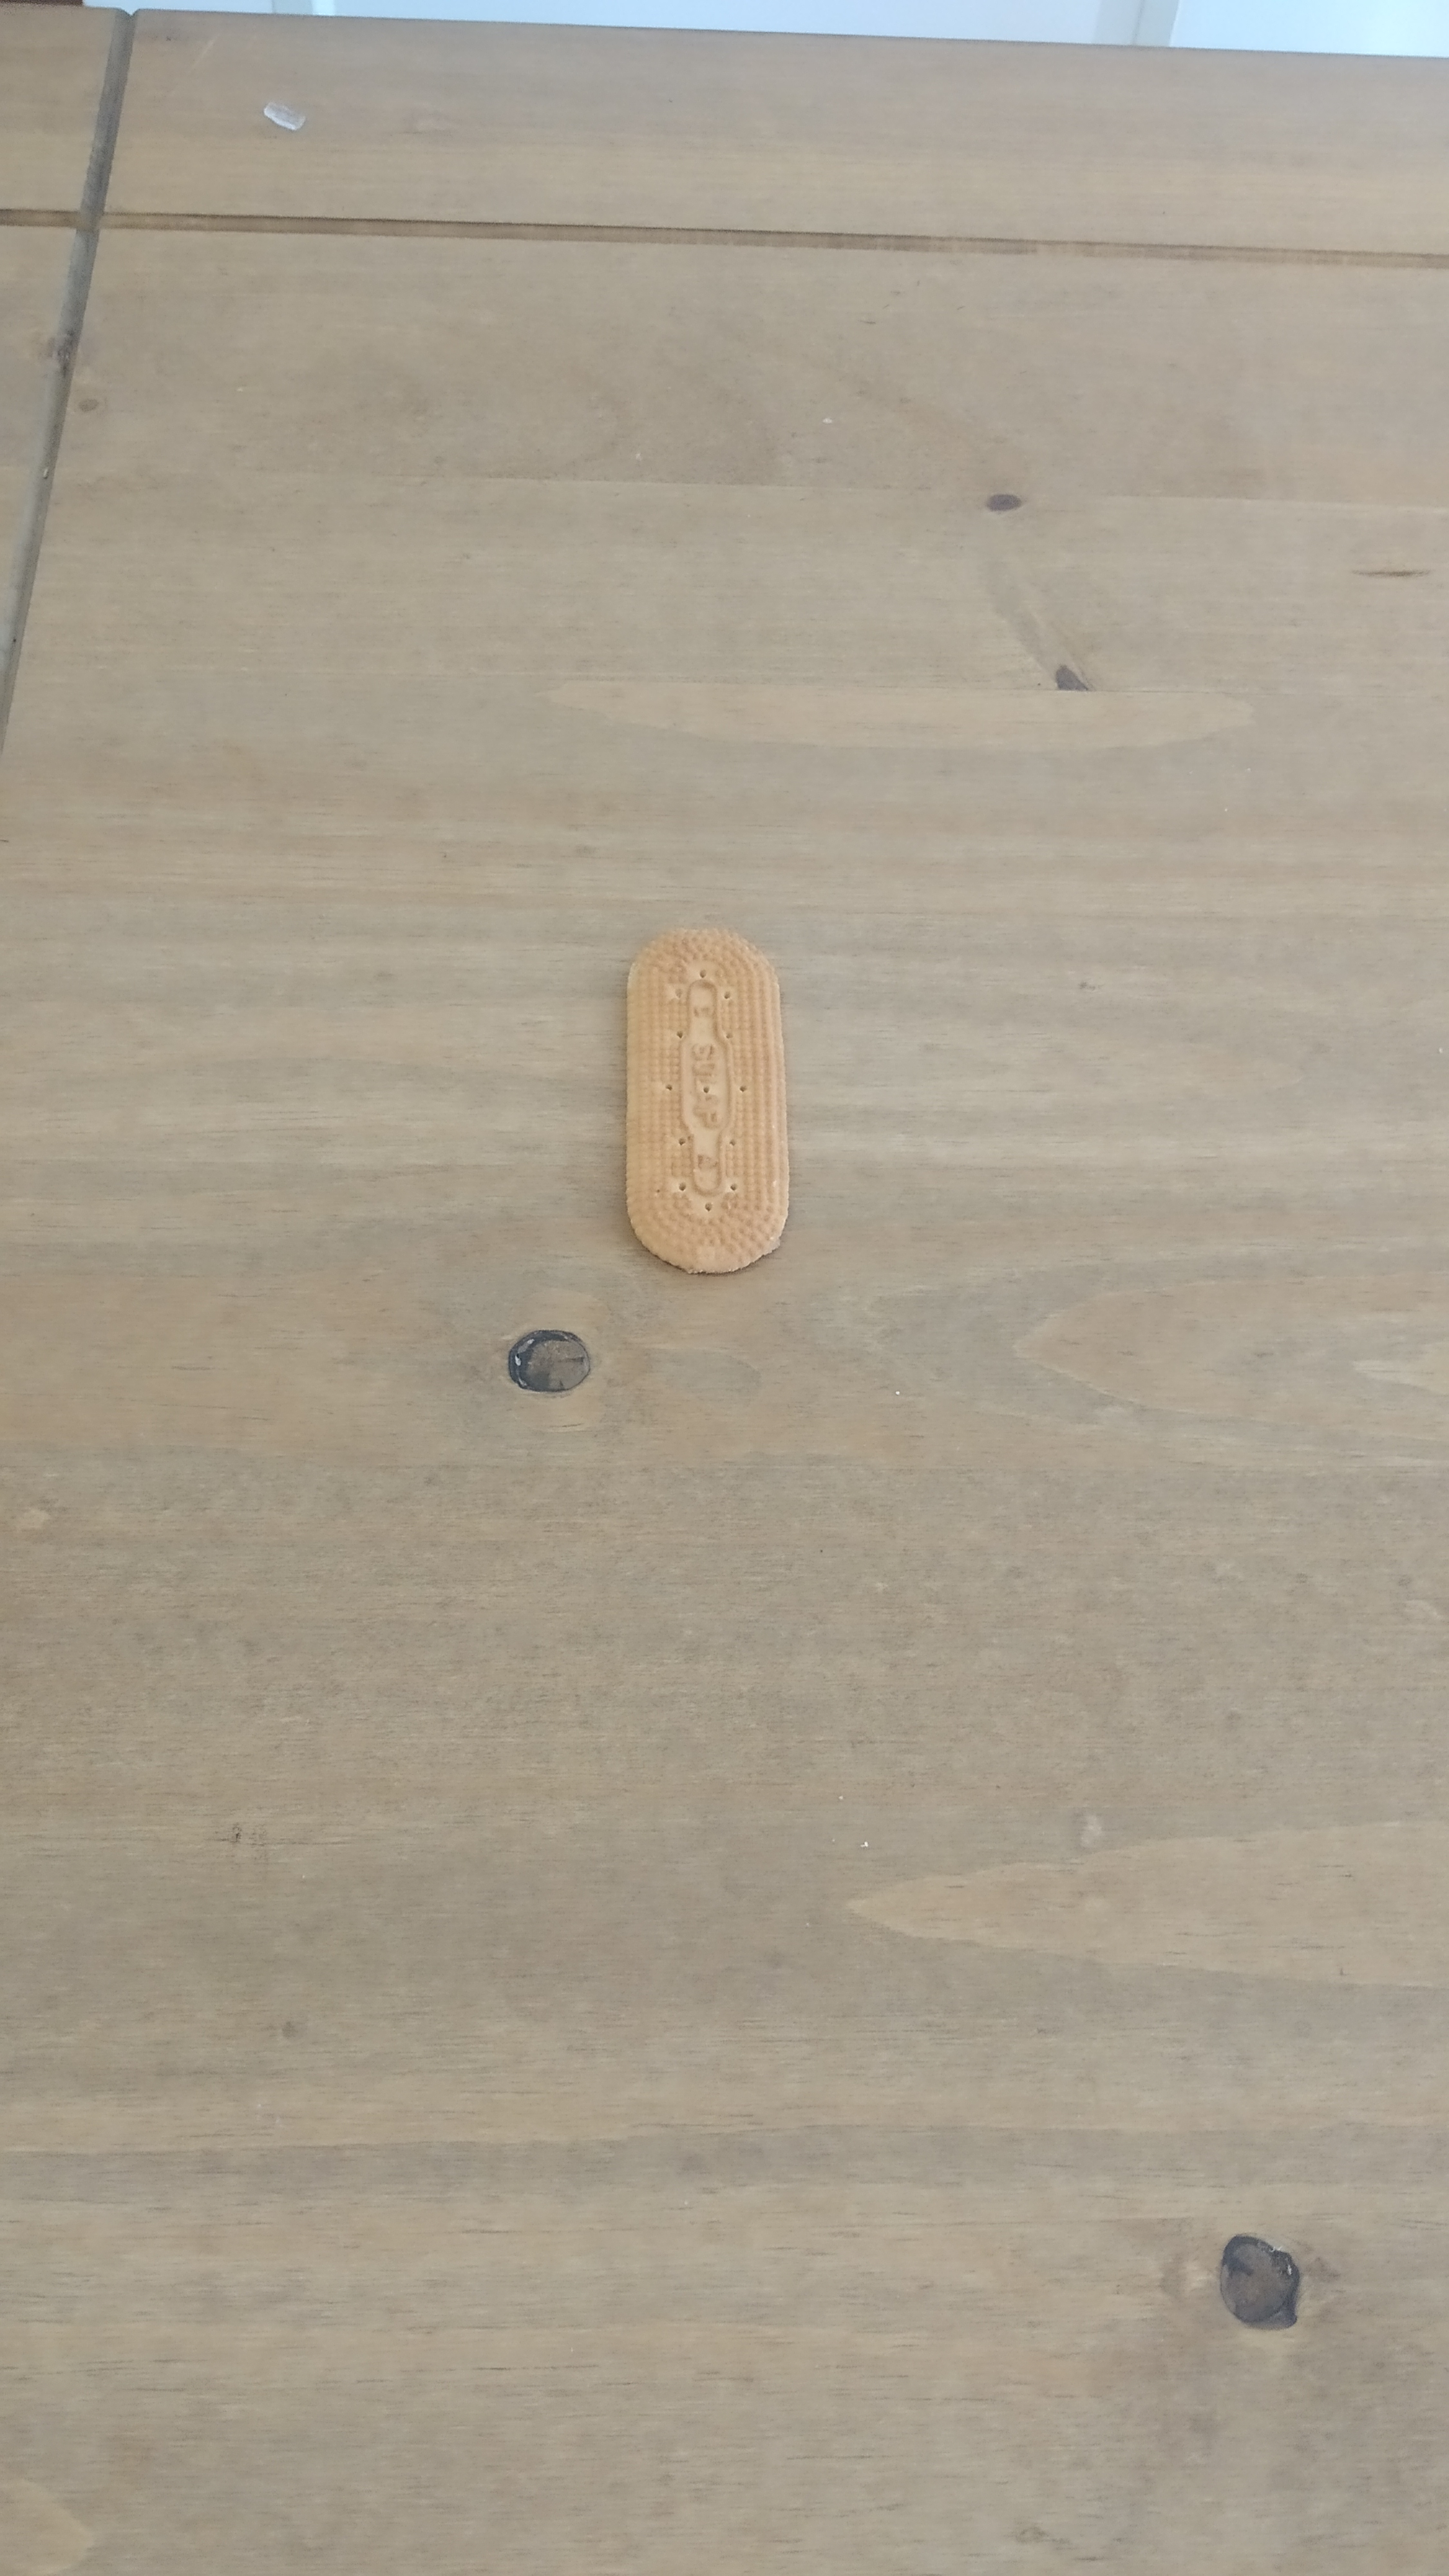solar: (625, 929, 789, 1276)
